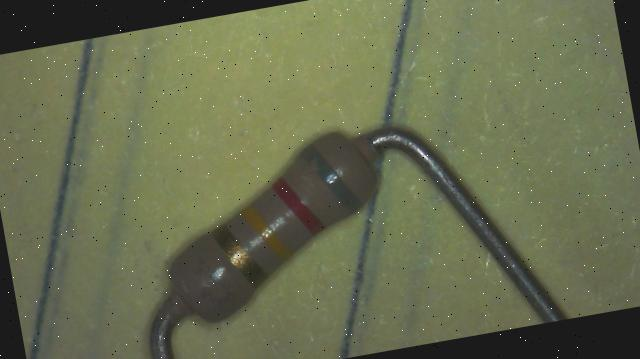gold: (213, 218, 269, 292)
grey: (300, 136, 362, 217)
red: (270, 171, 326, 240)
resistor: (146, 101, 412, 340)
yellow: (238, 198, 292, 266)
